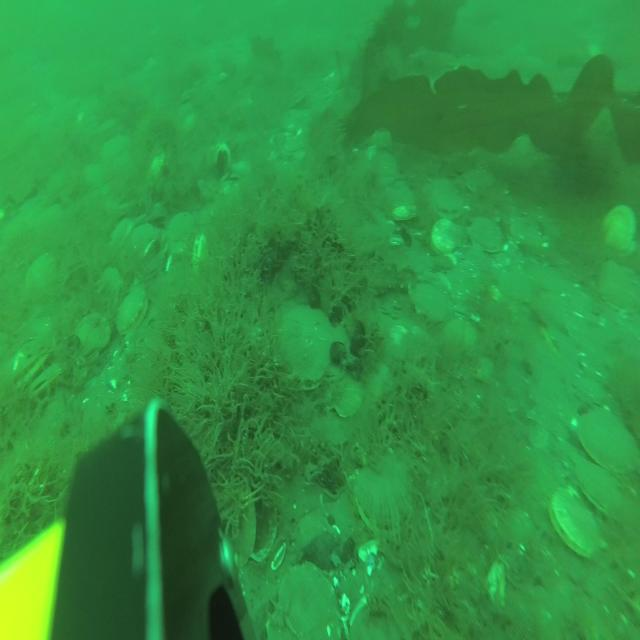scallop: (268, 556, 342, 640), (279, 303, 341, 395), (578, 401, 640, 480), (353, 455, 410, 534), (217, 474, 260, 572), (550, 485, 601, 562), (578, 455, 623, 515), (600, 257, 640, 314), (412, 280, 453, 326), (425, 178, 463, 222), (27, 251, 58, 302), (75, 312, 110, 357), (468, 215, 503, 257), (29, 368, 63, 410), (117, 290, 147, 335), (10, 341, 40, 385), (334, 378, 362, 422), (371, 149, 399, 192), (20, 356, 49, 395), (464, 164, 494, 199), (169, 209, 195, 243), (392, 197, 418, 228)
